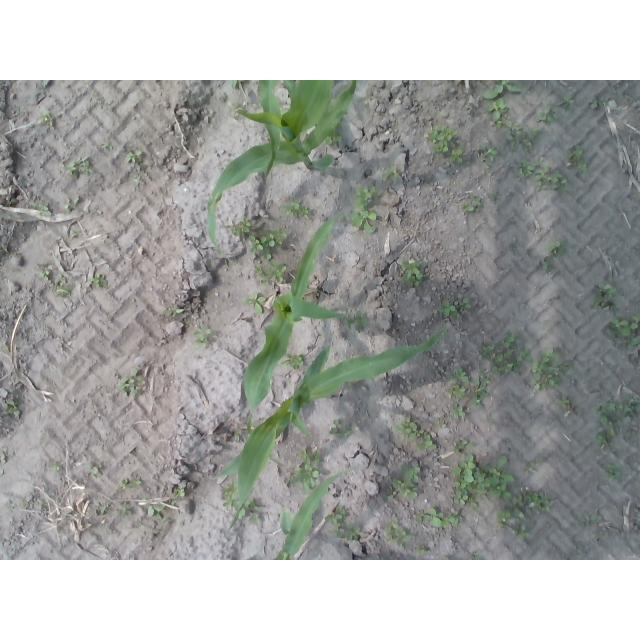Maize: (211, 324, 449, 537), (204, 80, 357, 261), (242, 214, 346, 466), (271, 468, 349, 560), (257, 81, 296, 180)
Weeds: (453, 454, 515, 510), (492, 332, 533, 376), (290, 446, 323, 490), (528, 348, 560, 392), (246, 227, 286, 262), (351, 186, 380, 234), (595, 402, 623, 449), (535, 158, 569, 194), (513, 491, 552, 518), (506, 124, 542, 153), (418, 508, 463, 529), (393, 465, 420, 500), (426, 126, 458, 155), (484, 97, 512, 128), (385, 518, 413, 549), (470, 369, 492, 408), (609, 313, 640, 339), (393, 415, 423, 441), (483, 81, 522, 100), (117, 372, 146, 397), (401, 261, 427, 288), (281, 197, 311, 220), (591, 284, 617, 309), (566, 144, 588, 172), (221, 480, 240, 510), (478, 144, 499, 171), (330, 523, 361, 541), (265, 259, 288, 283), (51, 274, 74, 298), (239, 498, 262, 522), (244, 292, 269, 314), (66, 156, 91, 177), (324, 120, 344, 145), (496, 504, 516, 529), (347, 311, 369, 333), (226, 216, 250, 236), (382, 163, 403, 185), (328, 419, 352, 438), (555, 396, 581, 413), (535, 104, 557, 124), (193, 325, 212, 348), (460, 195, 482, 214), (325, 506, 347, 525), (416, 432, 437, 451), (437, 300, 460, 317), (622, 396, 640, 417), (603, 460, 621, 480), (511, 523, 531, 541), (147, 503, 166, 521), (447, 384, 468, 400), (518, 160, 535, 179), (547, 240, 566, 257), (5, 400, 24, 417), (7, 499, 30, 513), (525, 458, 541, 478), (454, 439, 475, 454), (38, 109, 55, 127), (286, 352, 304, 369), (450, 366, 469, 382), (30, 201, 51, 215), (85, 461, 103, 477), (125, 149, 144, 164), (121, 477, 144, 489), (228, 100, 243, 117), (578, 512, 599, 524), (89, 273, 107, 287), (451, 403, 466, 419), (119, 502, 134, 518), (39, 265, 53, 282), (562, 95, 575, 109), (541, 258, 555, 271), (93, 503, 108, 515), (1, 450, 8, 474), (450, 149, 462, 163), (628, 335, 640, 349), (558, 360, 572, 372), (482, 345, 494, 359), (166, 309, 184, 318), (458, 298, 472, 309), (173, 487, 187, 498), (388, 484, 397, 500), (471, 552, 487, 561), (230, 80, 245, 89), (65, 198, 72, 214), (416, 544, 427, 554), (490, 189, 499, 201), (102, 141, 114, 150), (253, 264, 263, 274), (50, 461, 60, 471), (232, 430, 241, 440), (590, 99, 599, 109), (1, 341, 9, 351), (70, 231, 78, 238), (1, 244, 8, 252), (261, 279, 270, 285), (134, 178, 140, 186), (443, 556, 451, 560)
